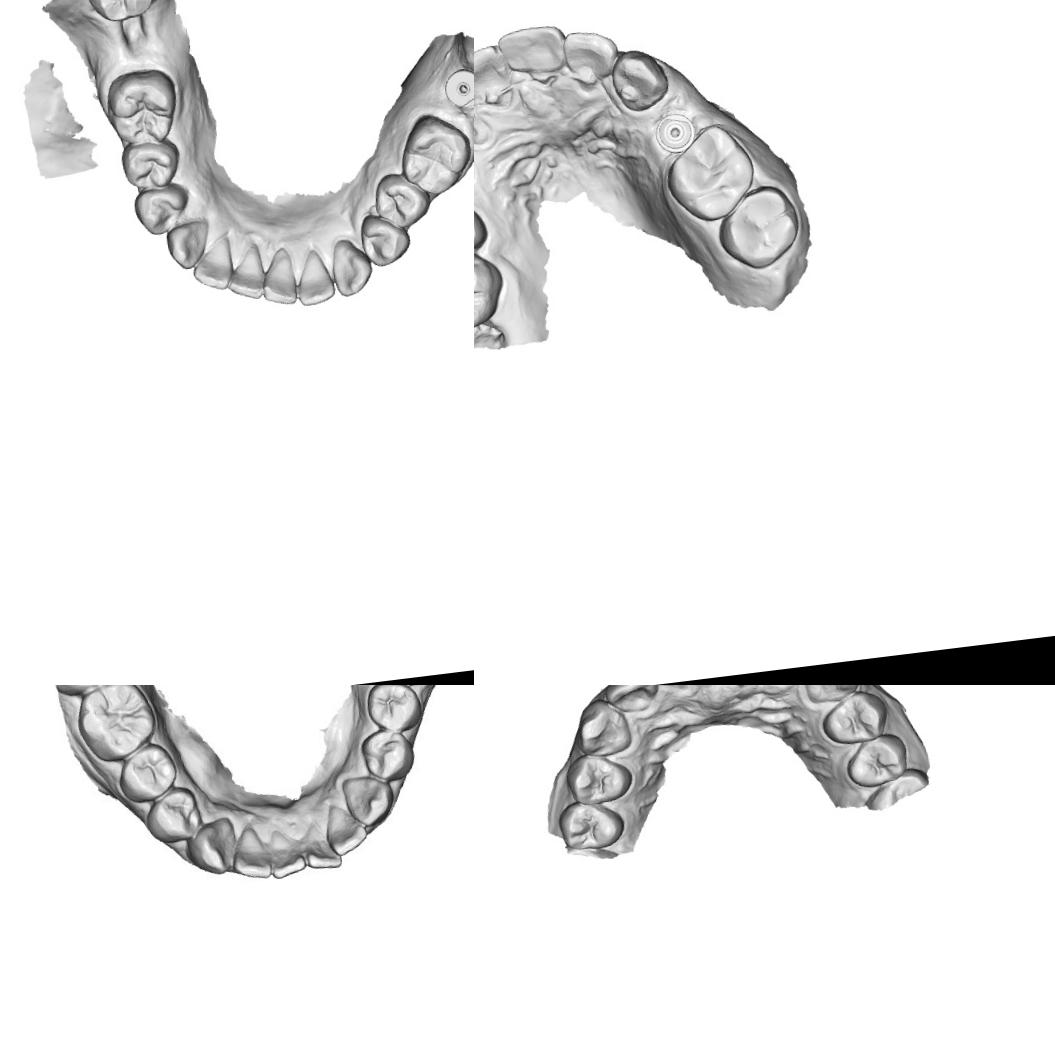canine: (566, 693, 635, 760), (609, 44, 673, 115), (336, 768, 396, 832), (328, 234, 376, 299), (190, 818, 239, 876), (164, 218, 214, 272), (799, 685, 862, 708)
implant: (651, 109, 698, 158), (441, 64, 474, 110)
incisor: (494, 20, 572, 88), (558, 22, 622, 90), (474, 41, 515, 114), (188, 235, 236, 293), (292, 246, 337, 307), (222, 242, 267, 302), (327, 804, 376, 859), (257, 246, 299, 308), (267, 827, 306, 886), (232, 825, 272, 878), (599, 685, 658, 716), (306, 827, 340, 874)
molar: (660, 122, 759, 227), (712, 182, 804, 275), (69, 685, 158, 766), (394, 109, 474, 198), (102, 64, 182, 148), (474, 240, 511, 337), (77, 0, 160, 27)
premolar: (816, 686, 892, 750), (560, 749, 638, 809), (554, 795, 628, 856), (840, 730, 910, 794), (114, 743, 178, 807), (371, 168, 434, 232), (118, 134, 183, 194), (356, 208, 414, 270), (131, 181, 194, 238), (363, 685, 426, 739), (145, 786, 204, 842), (358, 728, 414, 782), (474, 191, 490, 255)
